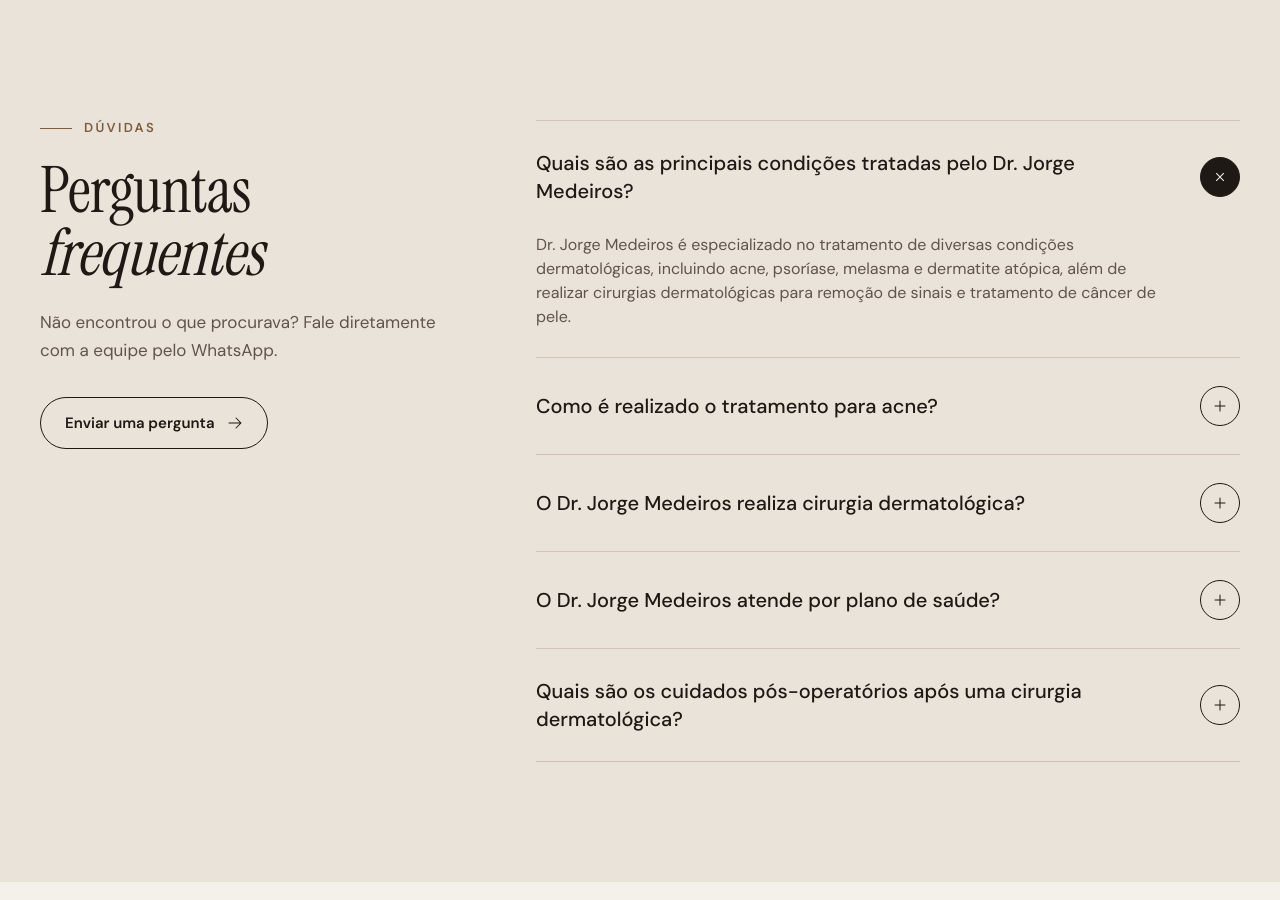
Test: FAQ (Perguntas frequentes) › liga cada pergunta à sua resposta e alterna ao clicar
The image size is (1280, 900).
Click the button "Como é realizado o tratamento para acne?": (888, 406) [536,358,1240,454]
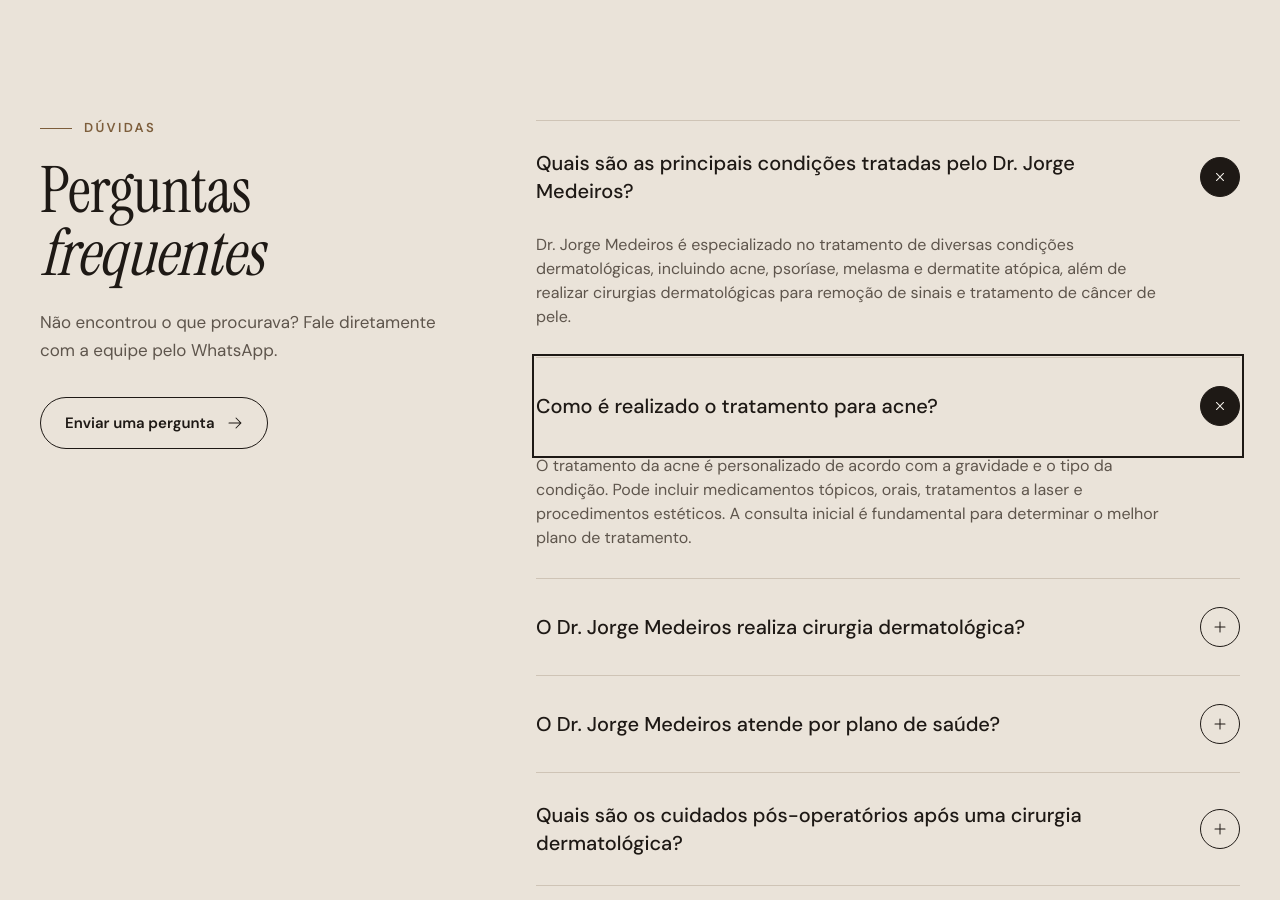
Expected: the button "Como é realizado o tratamento para acne?" is expanded
Click the button "Como é realizado o tratamento para acne?": (888, 406) [536,358,1240,454]
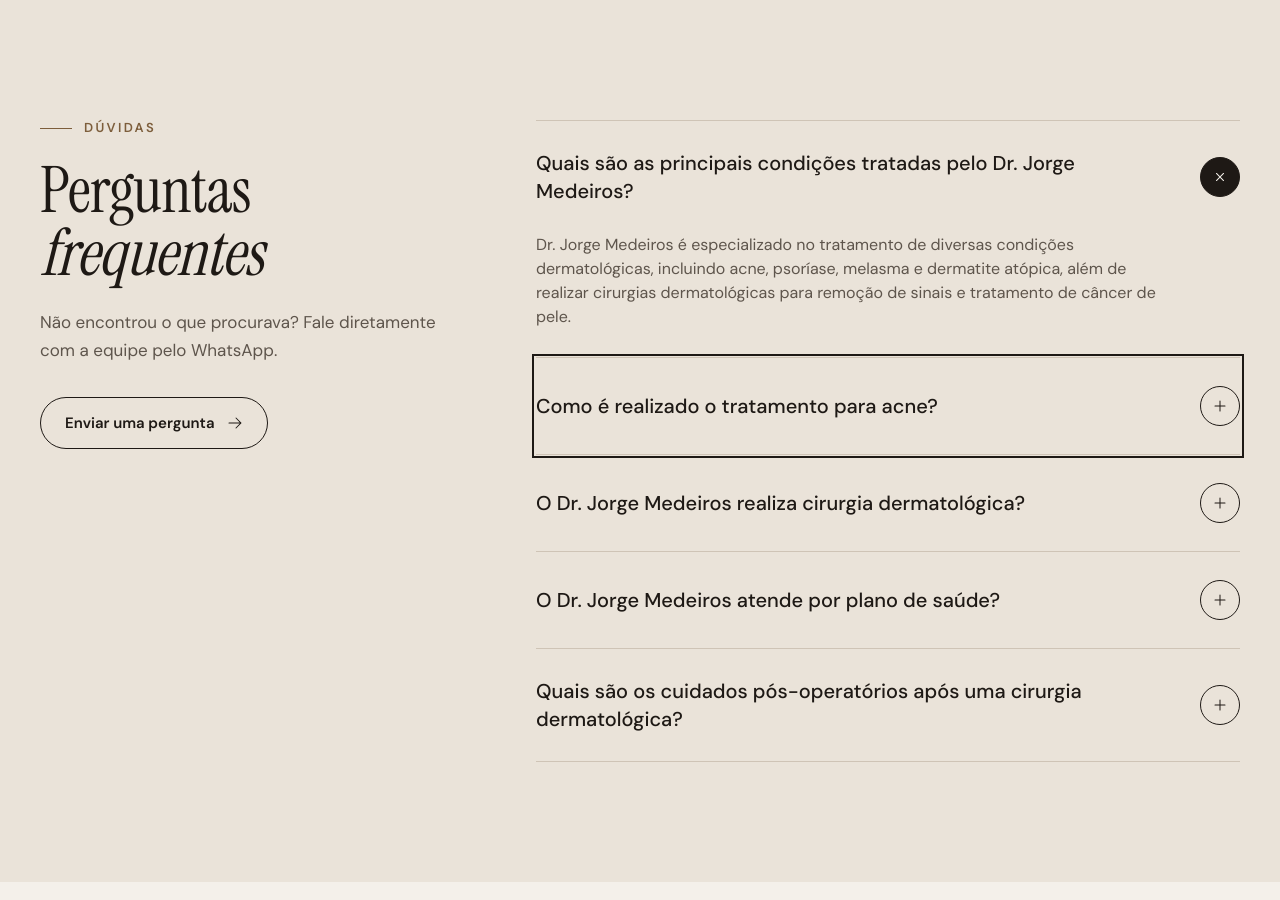
Expected: the button "Como é realizado o tratamento para acne?" is collapsed, [536,358,1240,454]
